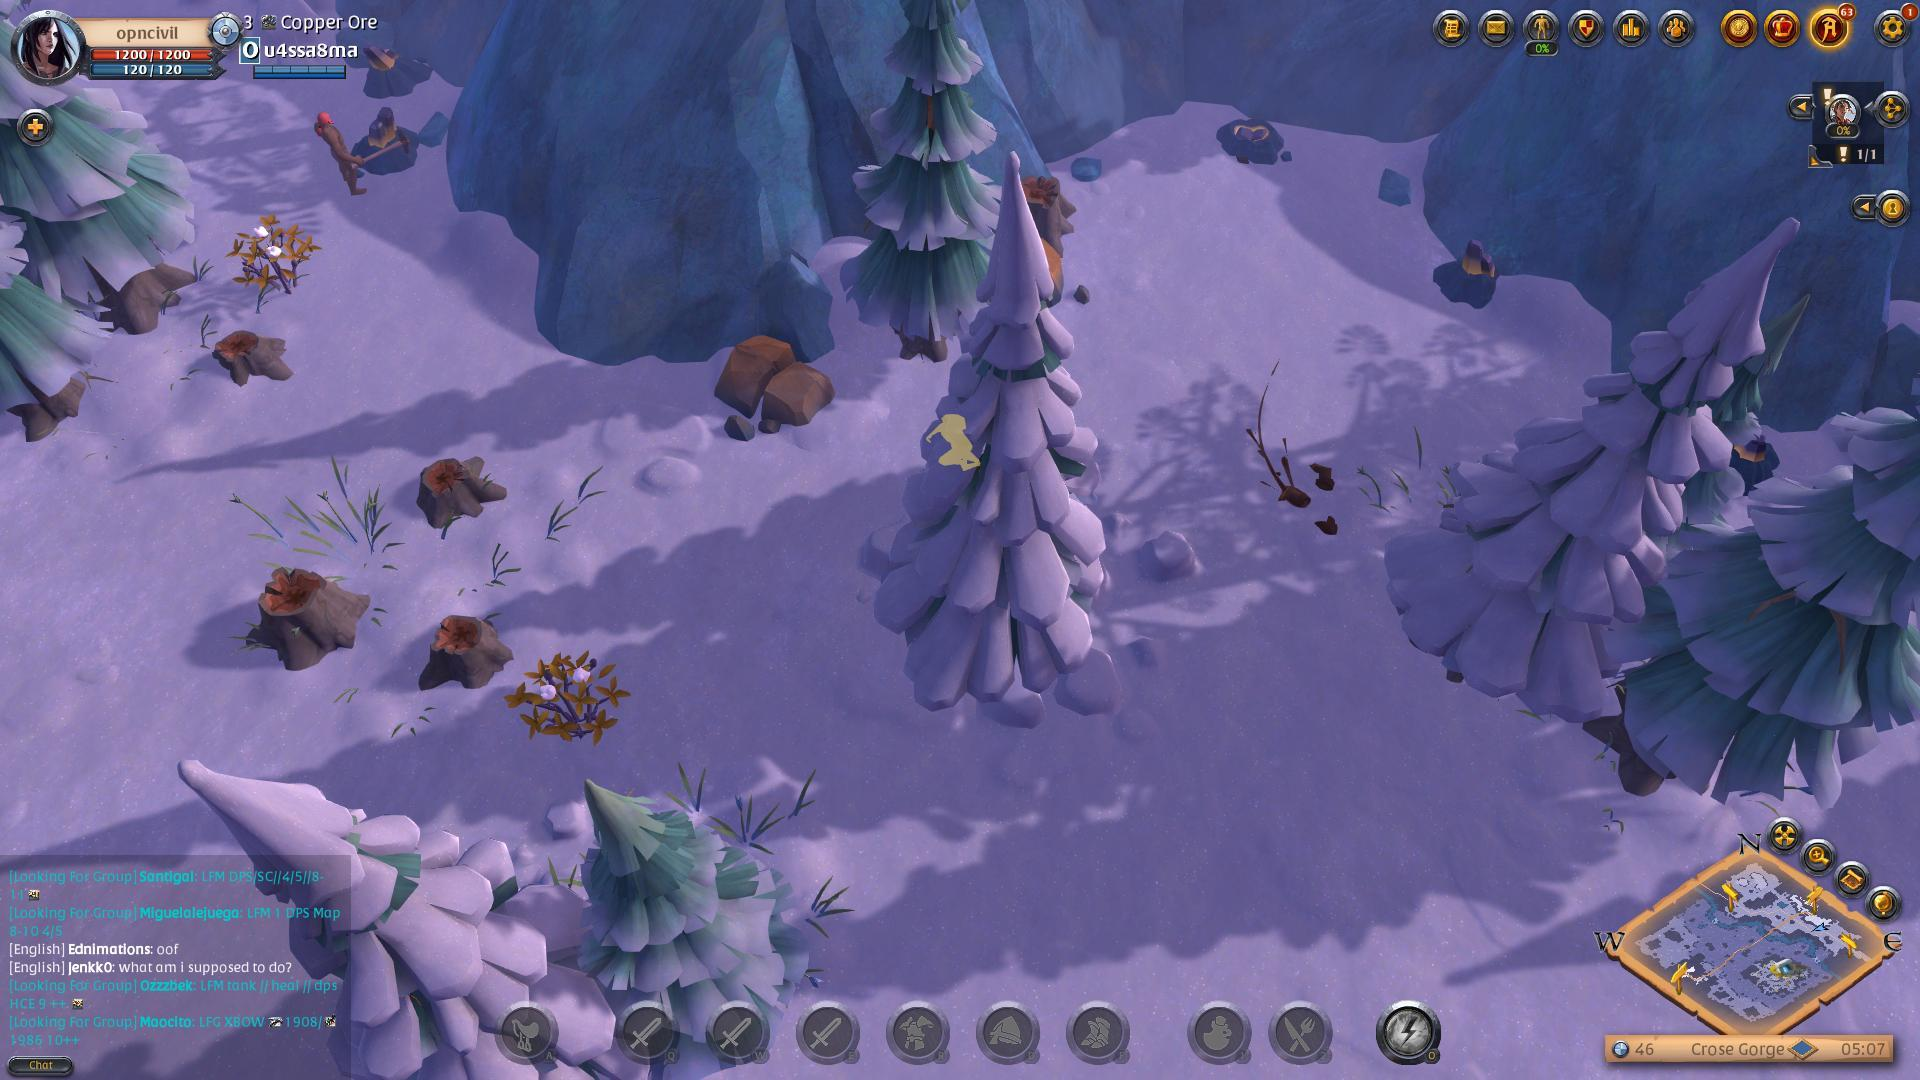copper_ore: (1415, 240, 1542, 319), (361, 41, 431, 98)
cotton: (512, 650, 642, 746), (225, 223, 331, 294)
limestone: (704, 322, 844, 444)
